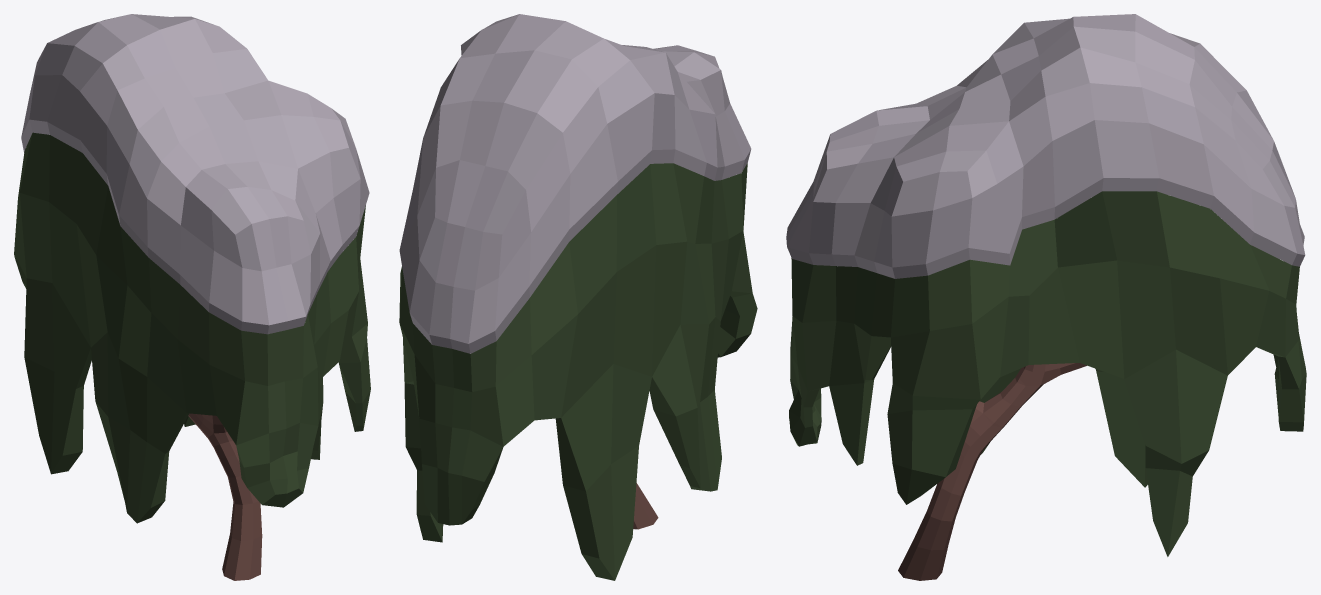
The model's file is Willow_Snow_1-transformed.glb.
3 renders of one model, left to right at view 1: azimuth 30°, elevation 25°; view 2: azimuth 150°, elevation 25°; view 3: azimuth 270°, elevation 25°, orthographic. The views are drawn at different scales.
Visible parts, largest first — view 1: Willow_Snow_1; view 2: Willow_Snow_1; view 3: Willow_Snow_1.
Boxes of the visible parts, bbox=[...] form: Willow_Snow_1: bbox=[14, 14, 370, 580]; Willow_Snow_1: bbox=[399, 14, 757, 580]; Willow_Snow_1: bbox=[786, 14, 1306, 580].
Bounding box in the file's own units: 1.45 × 2.93 × 2.57.
